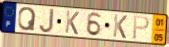6: (85, 12, 103, 38)
J: (38, 8, 55, 34)
K: (64, 10, 81, 36), (112, 14, 129, 40)
P: (131, 15, 151, 41)
Q: (17, 6, 38, 32)
